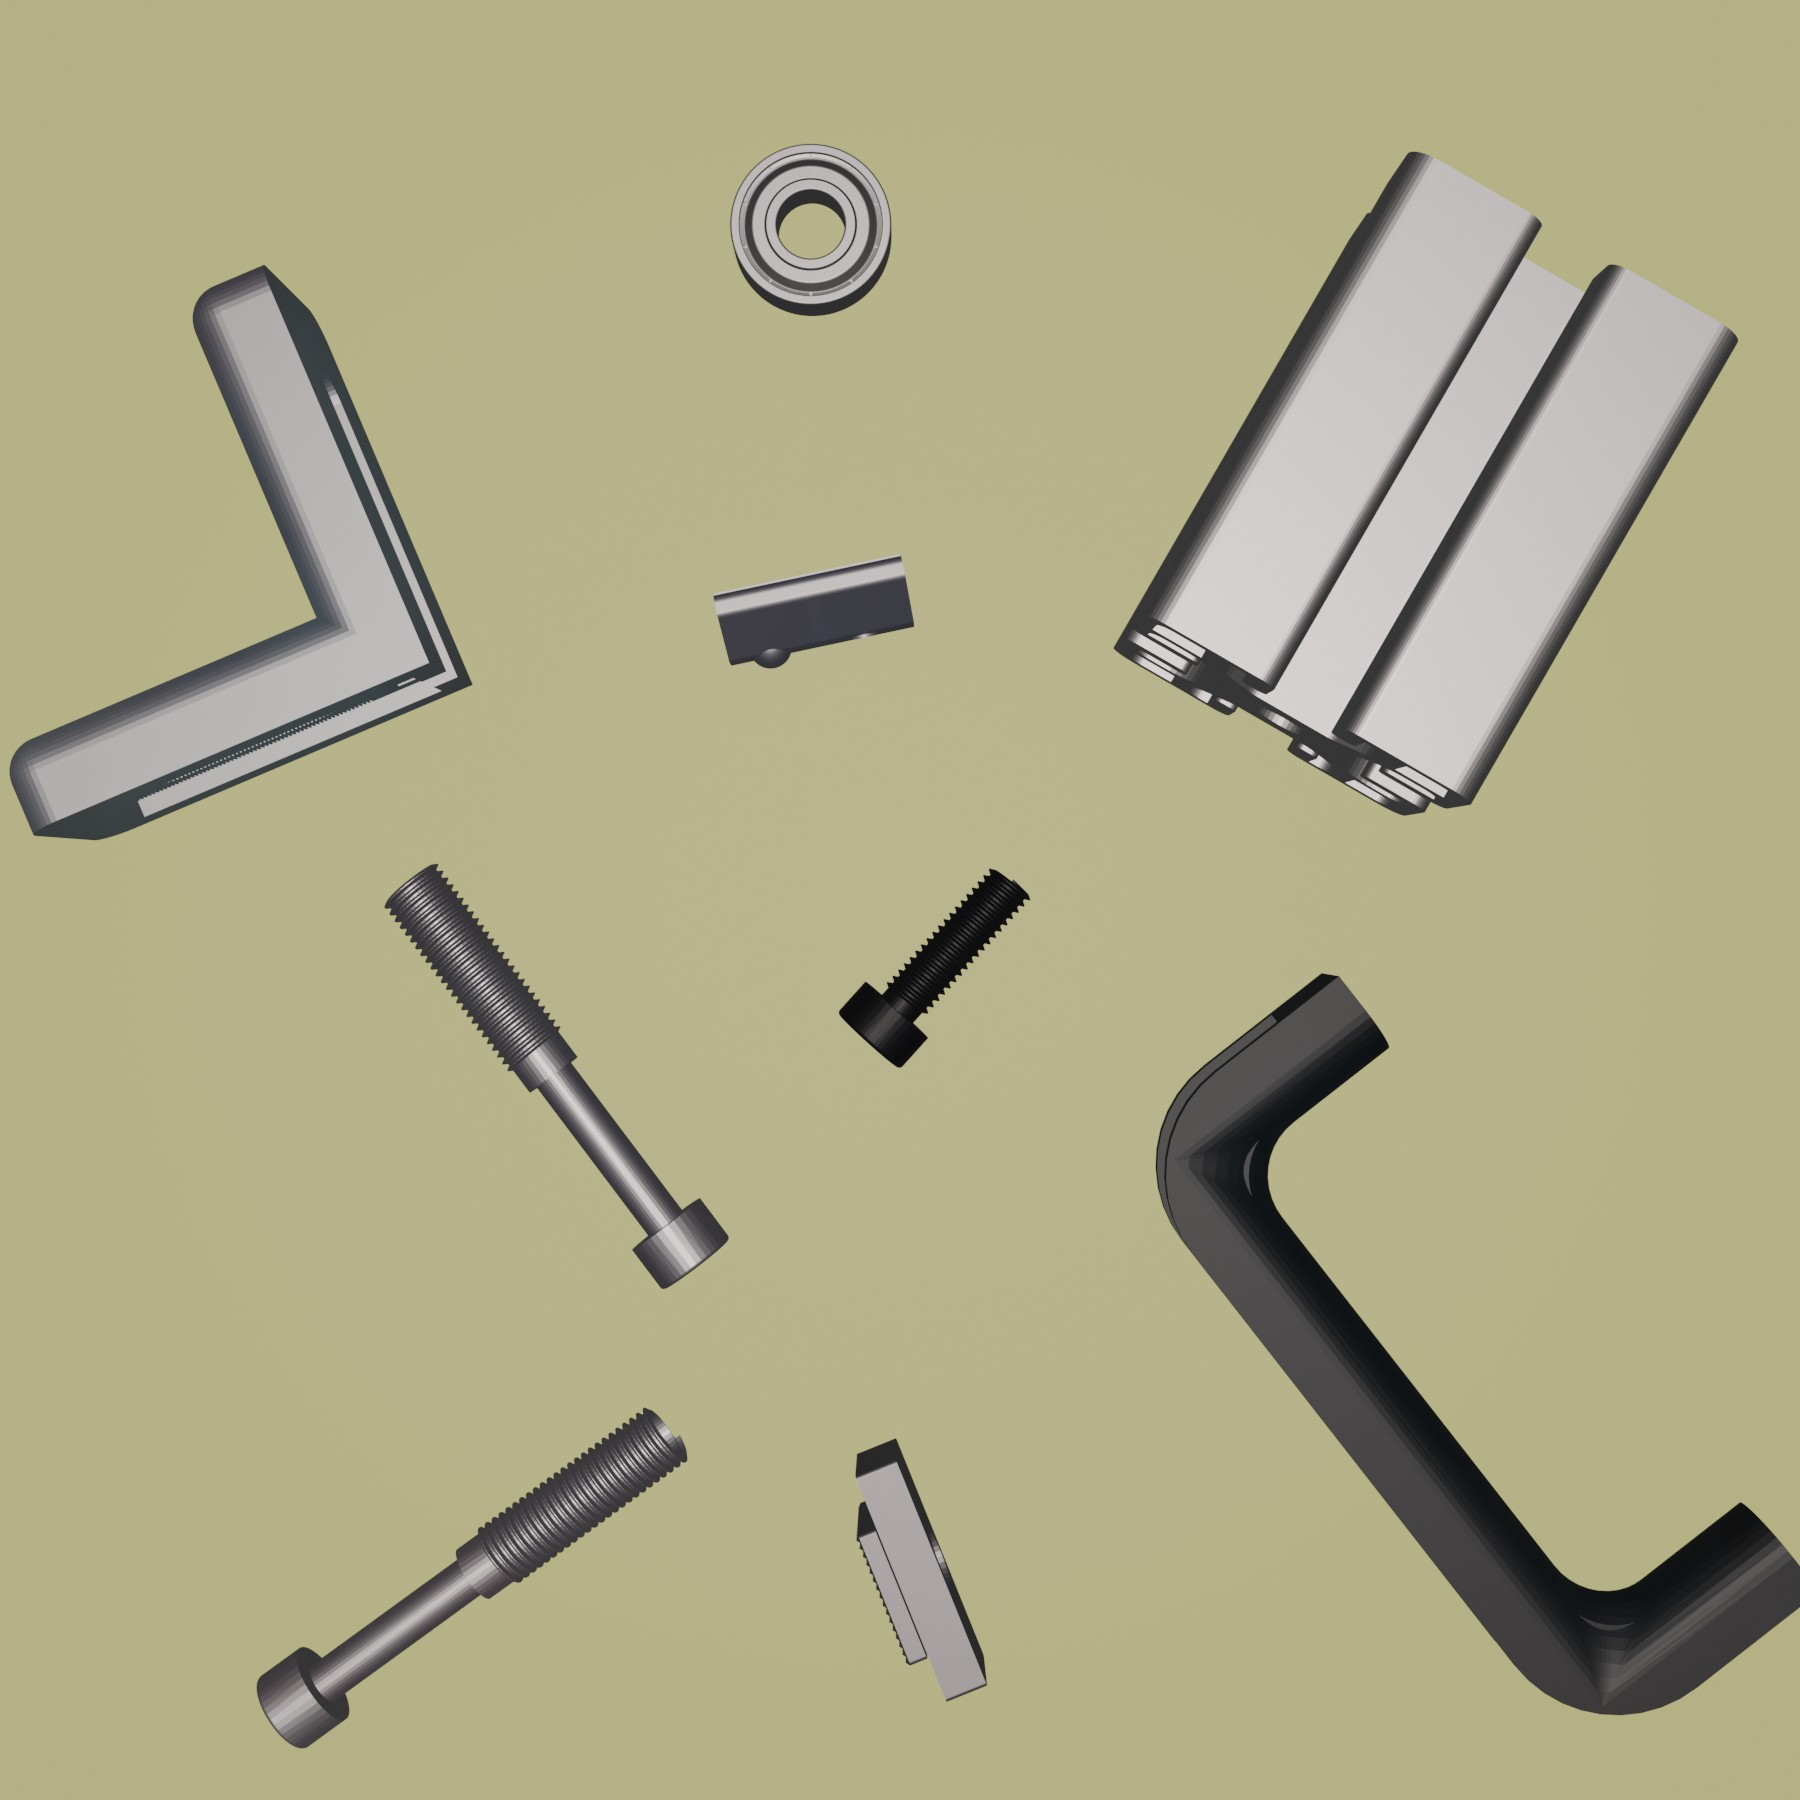Aluminium Extension: (1111, 147, 1742, 819)
Ball Bearing: (727, 142, 893, 320)
Multiwinkel: (8, 259, 476, 842)
Pull Handle: (1154, 974, 1800, 1719)
Shoulder Socket Head Cap Screw: (255, 1403, 691, 1751), (382, 862, 729, 1292)
Socket Head Cap Screw: (837, 865, 1032, 1070)
T Nut Square: (852, 1434, 992, 1708)
T Spring Nut: (712, 547, 916, 669)
